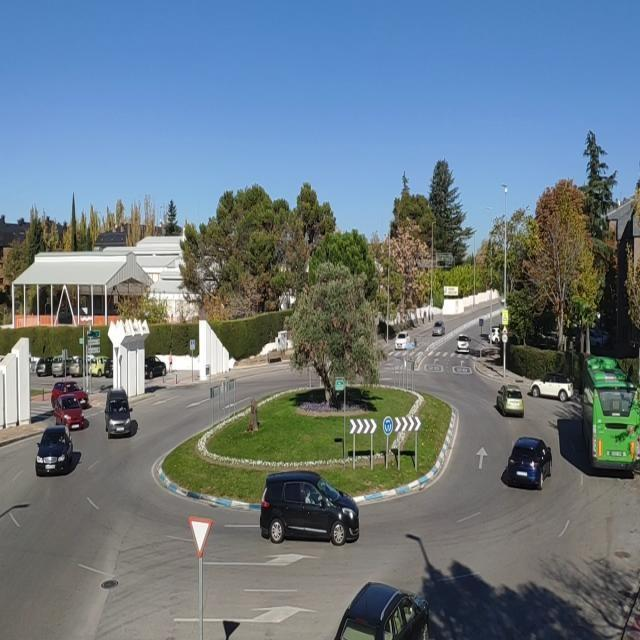Bus: (577, 352, 639, 474)
Car: (500, 438, 554, 490), (29, 426, 80, 477), (528, 372, 575, 403), (492, 384, 529, 418), (47, 381, 95, 405), (54, 398, 91, 429)
Van: (255, 470, 366, 549), (329, 579, 436, 639), (102, 388, 143, 437), (143, 357, 171, 375), (33, 357, 50, 377), (89, 355, 106, 375), (51, 356, 64, 377), (69, 356, 82, 377)
